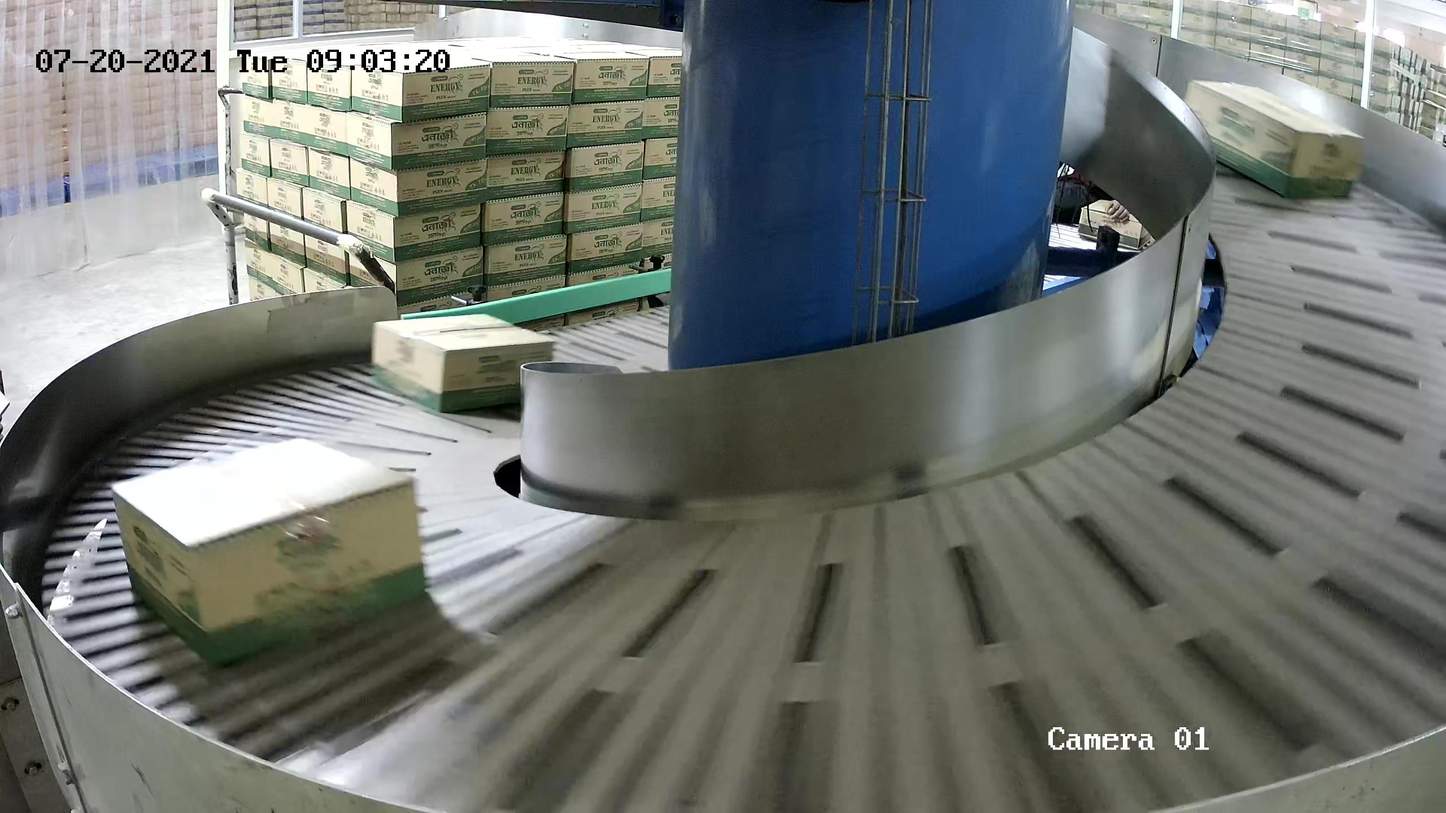Box: (112, 436, 430, 669), (1180, 77, 1366, 205), (371, 312, 557, 415)
